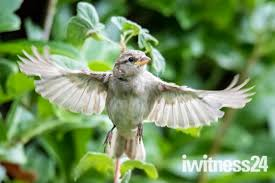hsparrow: (20, 42, 254, 158)
